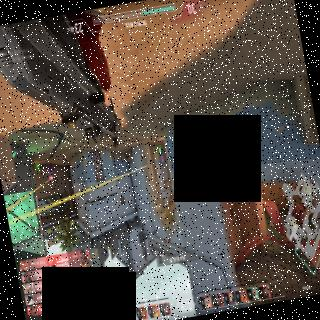ENEMY-BODY: (46, 158, 56, 184), (158, 144, 165, 162)
ENEMY-HEAD: (50, 179, 54, 183), (162, 160, 164, 162)
